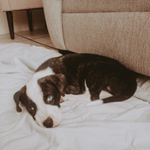puppy: (13, 51, 142, 134)
